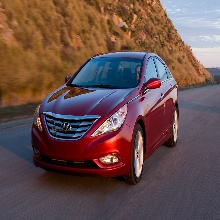no damage: (30, 52, 179, 185)
